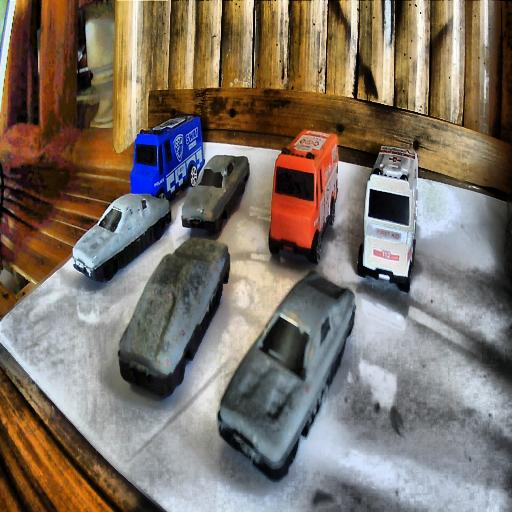ambulance: (356, 145, 418, 293)
fire_truck: (267, 130, 336, 266)
normal_car: (216, 270, 352, 479), (118, 237, 232, 400), (72, 189, 171, 284), (180, 153, 249, 236)
police car: (131, 112, 205, 202)
